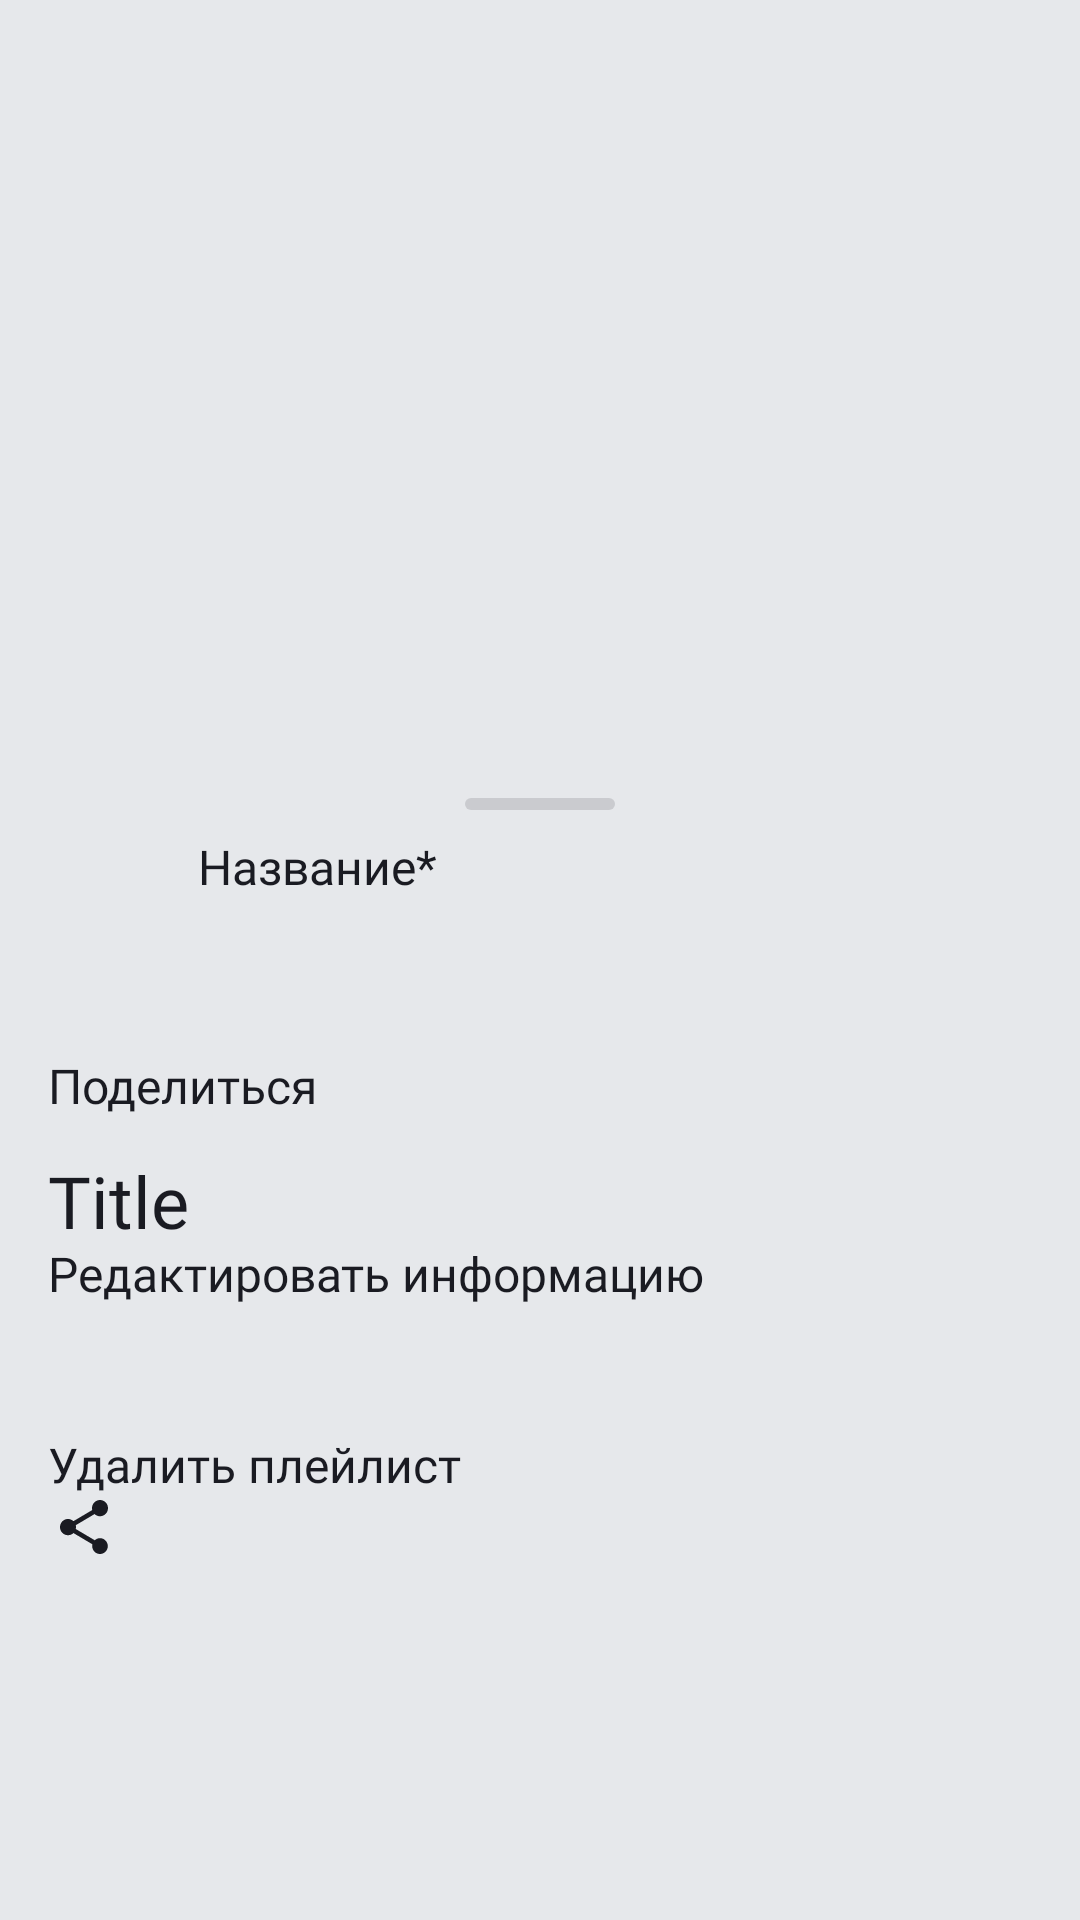

Named icons in this screenshot (1080×1920) and their centers, [x,y]:
player sharing: [84,1527]
